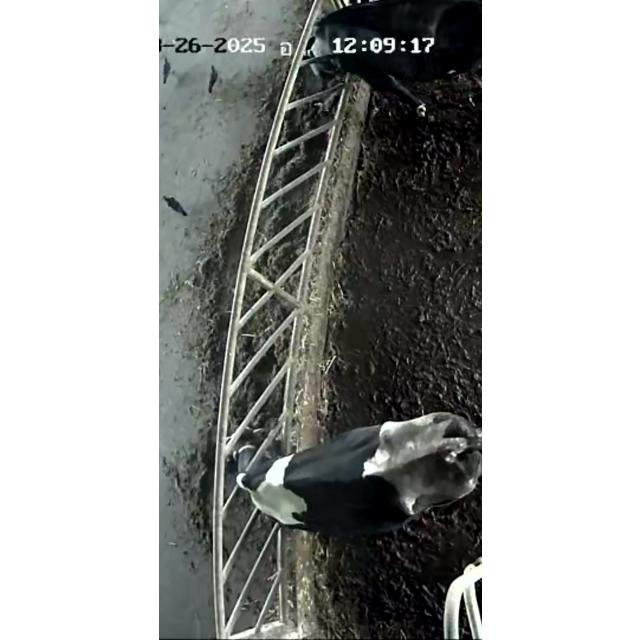eat: (186, 402, 324, 530), (246, 5, 420, 97)
